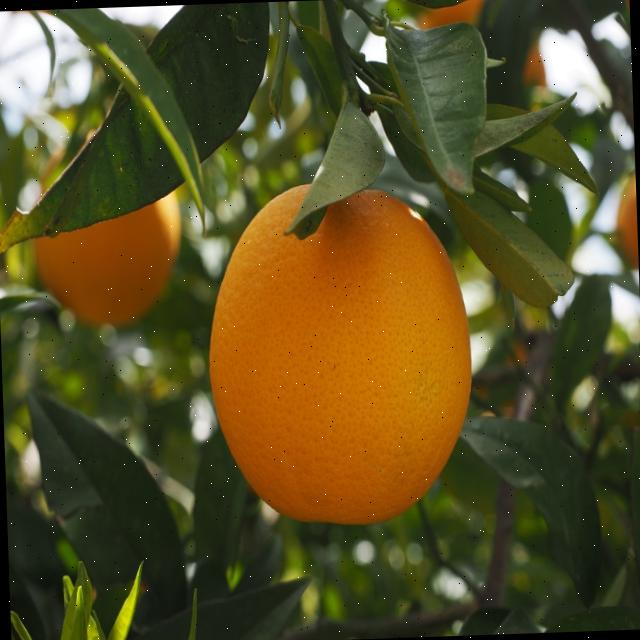Jeruk: (202, 176, 477, 530), (32, 186, 185, 329), (614, 171, 638, 270), (522, 42, 546, 87)
